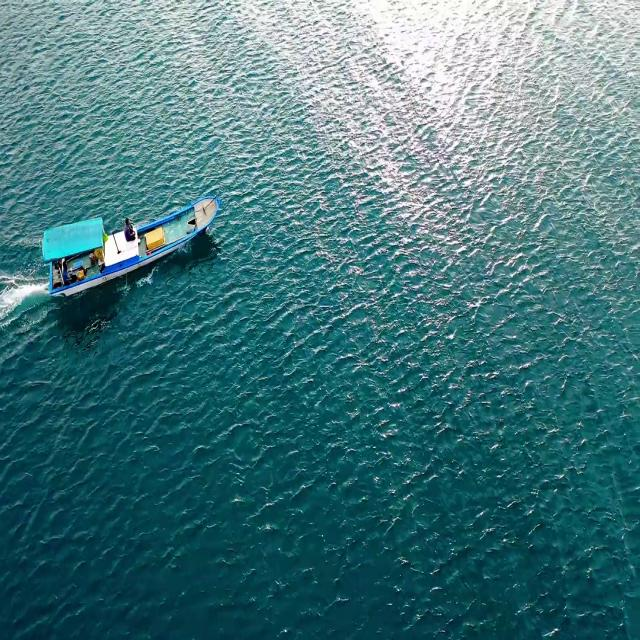ship: (38, 166, 226, 304)
